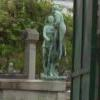Statue: (36, 4, 71, 75)
